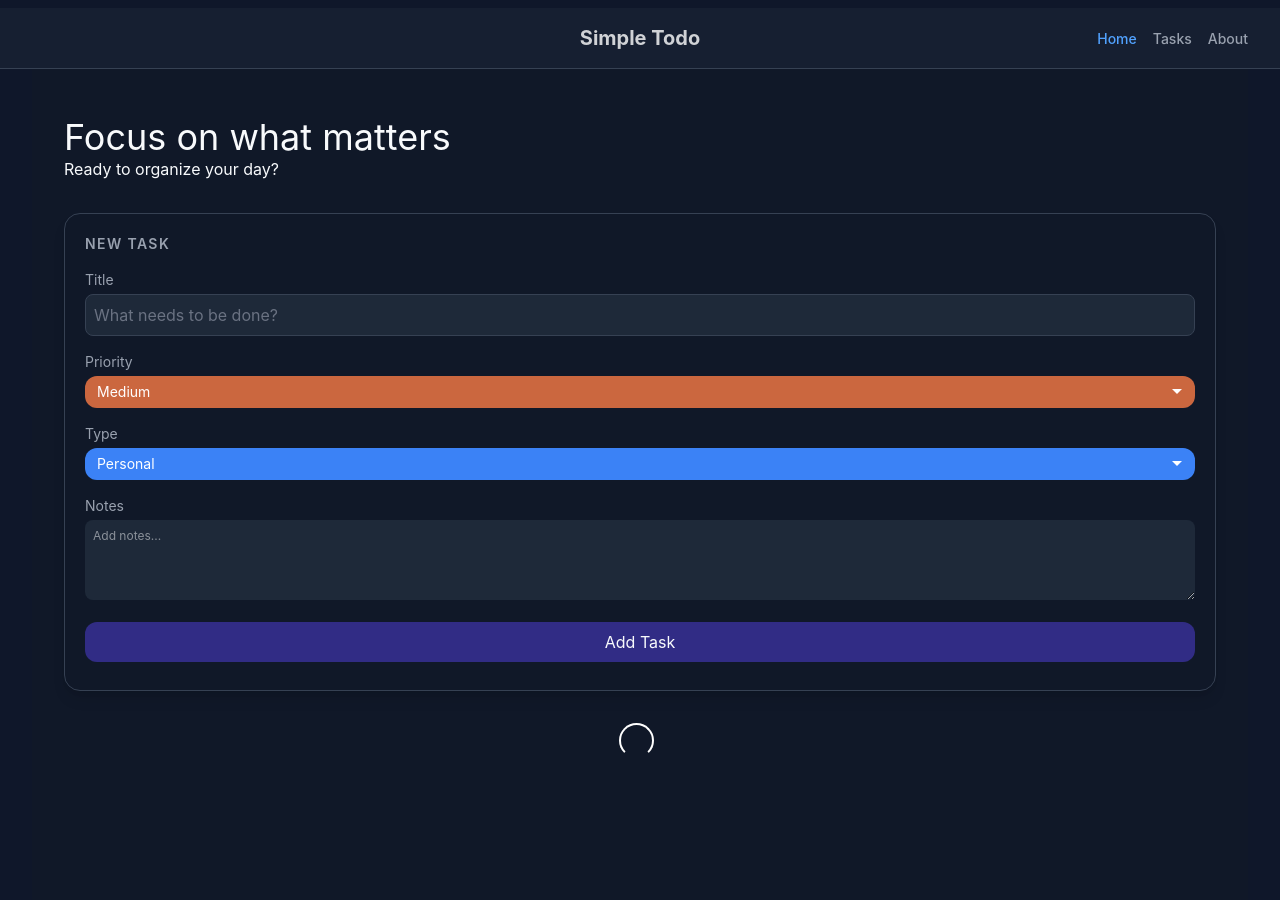
Test: Tasks Page - Routing & Integration › navigates from home page to tasks page and back
The image size is (1280, 900).
Expected: the link "Home" is shown, 1097,30 -> 1137,47
Expected: the heading named "Focus on what matters?" is shown, 64,115 -> 451,159
Click the link "Tasks".
click(1172, 38)  # box 1153,30 -> 1192,47
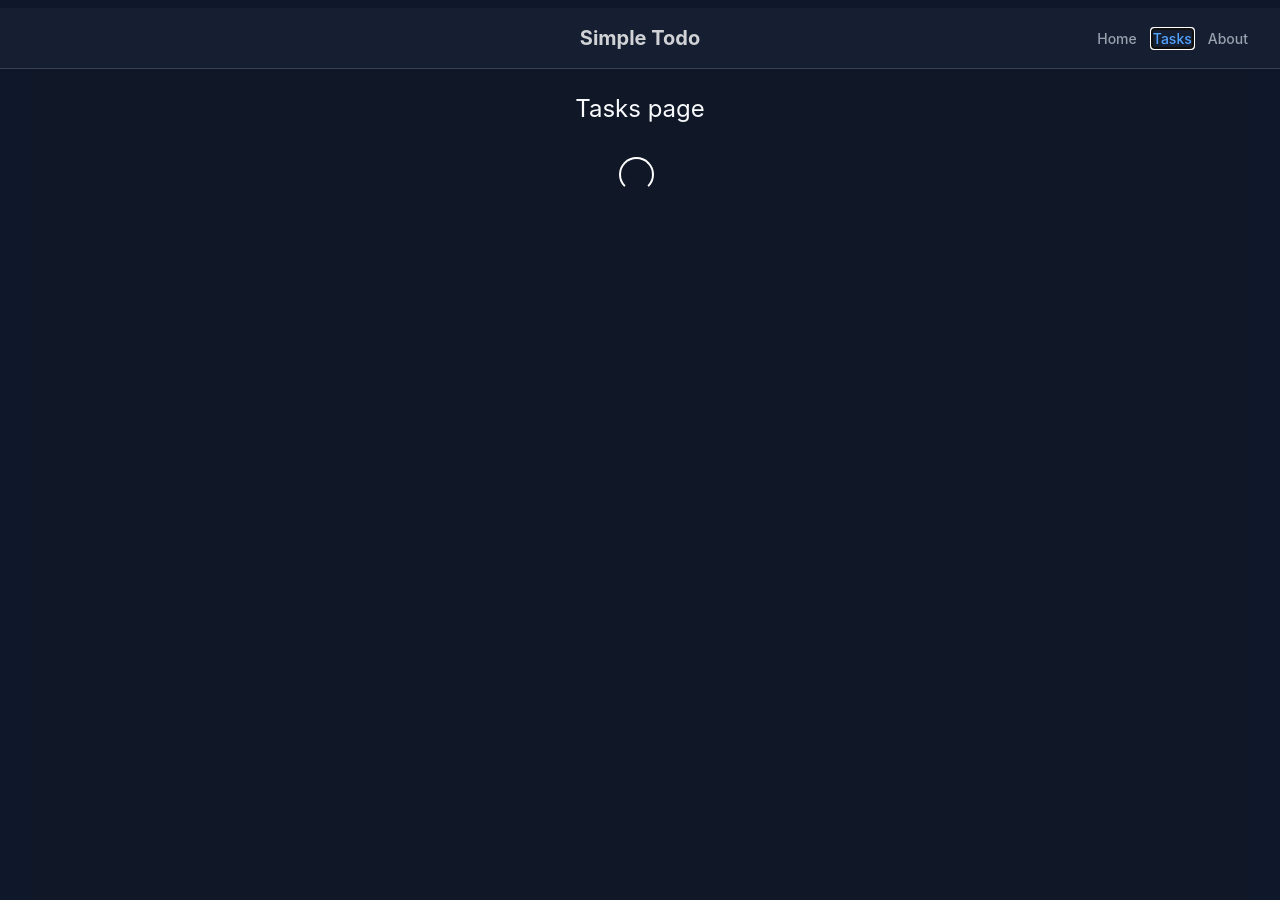
Expected: the heading "Tasks page" is shown, 575,94 -> 705,123
